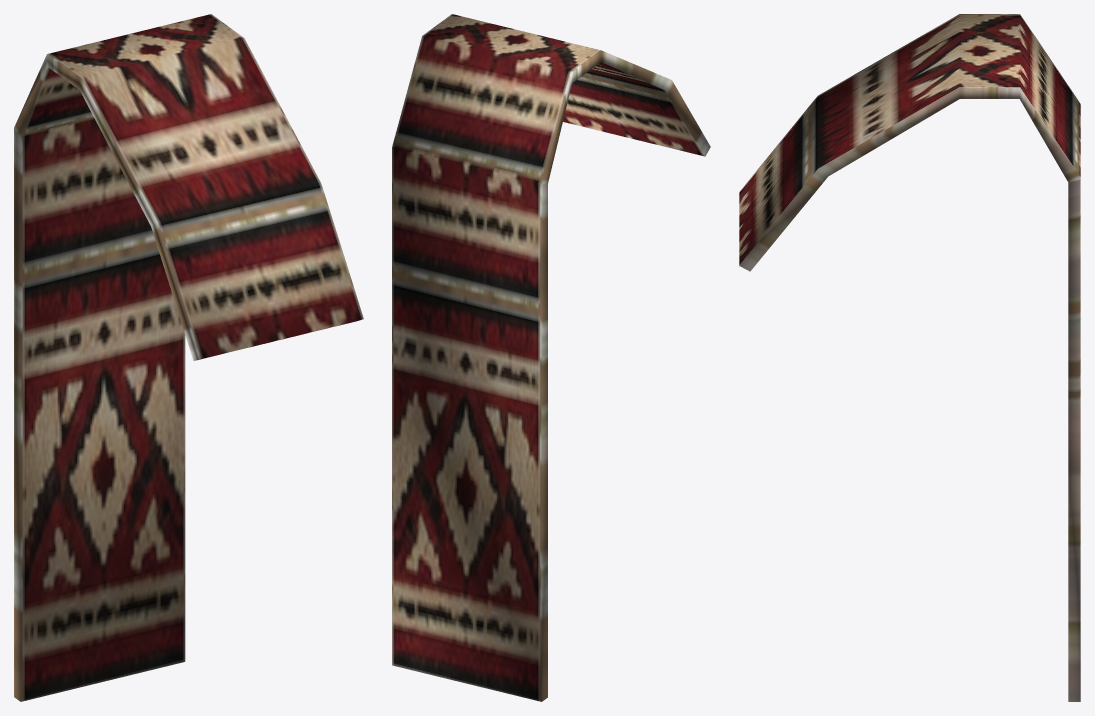
Rendered from cloak_chibc_01.dae.
The picture shows the model from 3 angles, left to right: view 1: azimuth 30°, elevation 25°; view 2: azimuth 150°, elevation 25°; view 3: azimuth 270°, elevation 25°; orthographic projection. The views are drawn at different scales.
Visible parts, largest first — view 1: prop_cloak_01; view 2: prop_cloak_01; view 3: prop_cloak_01.
Part boxes in pixels (left/top/right/bottom): prop_cloak_01: left=14, top=14, right=363, bottom=701; prop_cloak_01: left=392, top=14, right=710, bottom=701; prop_cloak_01: left=739, top=14, right=1080, bottom=701.
Bounding box in the file's own units: 0.4204 × 0.8214 × 1.63.
